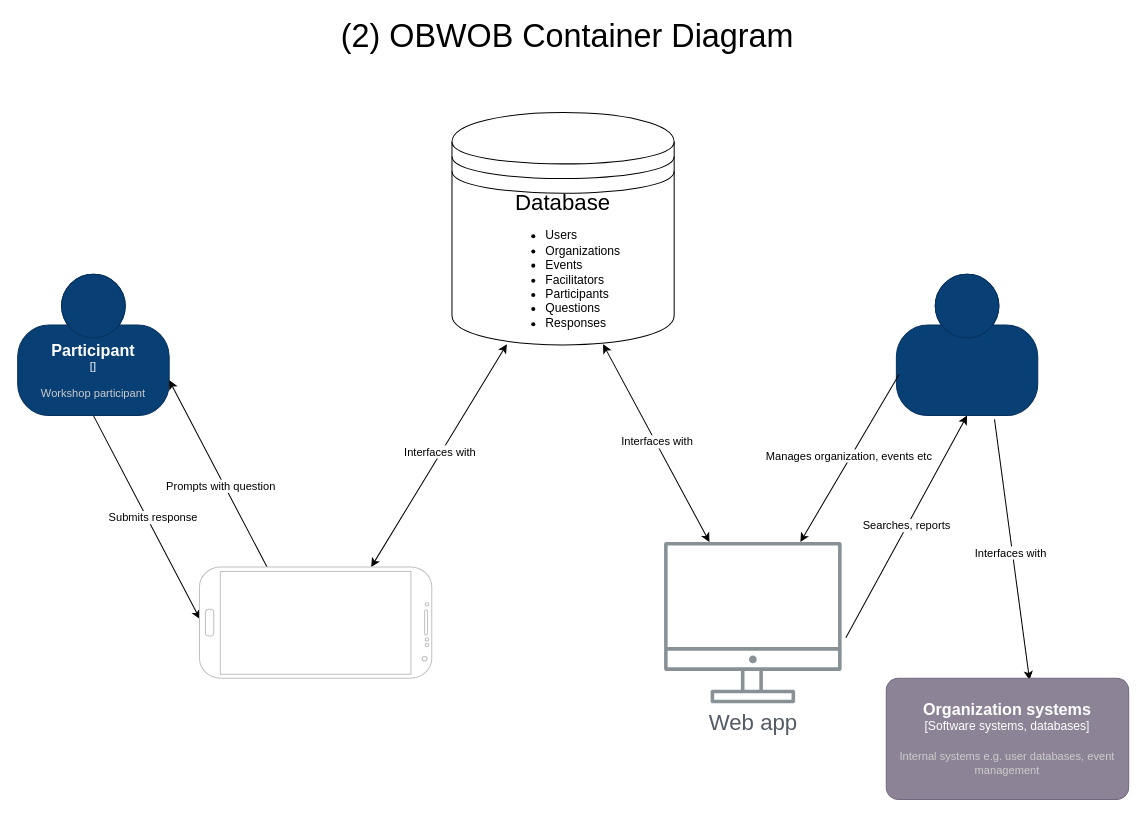
The diagram is 1146 pixels wide and 817 high, and some of its shapes have lost their labels. Each missing label, with the box of its shape:
Mobile app: (198, 566, 432, 678)
Organization coordinator(s) [User(s)] Manages organization's info, runs reports: (895, 273, 1038, 416)
